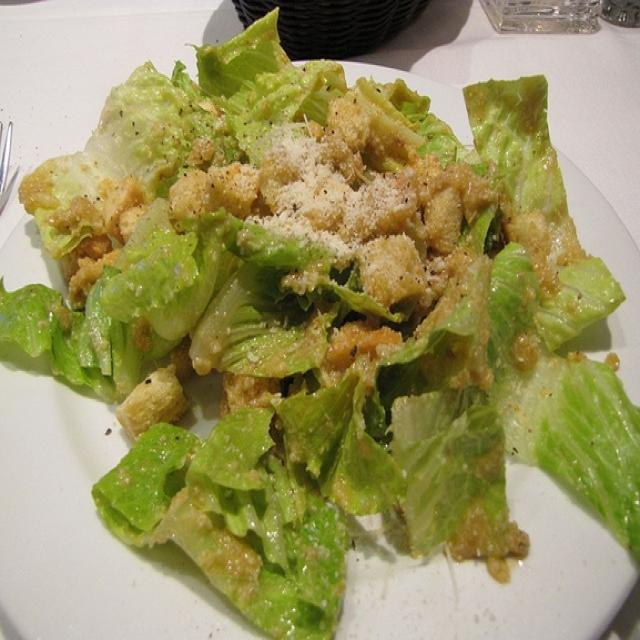蔬菜料理: (11, 15, 611, 615)
